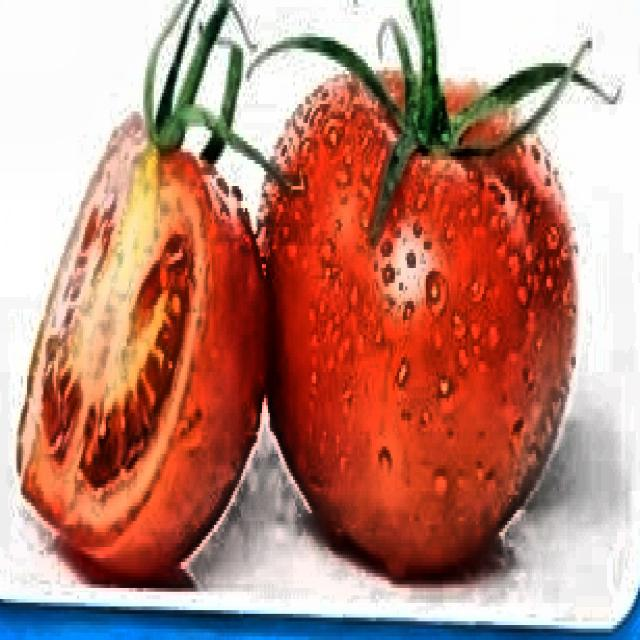Vegetable: (10, 0, 609, 584)
